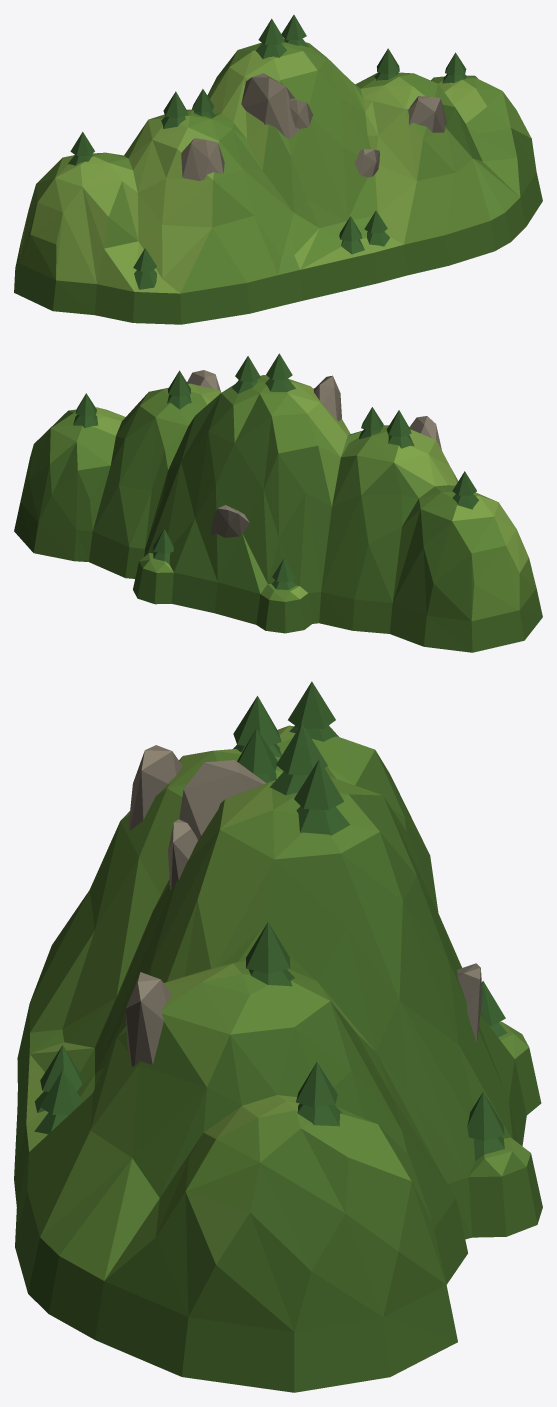
Rendered from forest_ridge.glb.
3 renders of one model, top to bottom at view 1: azimuth 30°, elevation 25°; view 2: azimuth 150°, elevation 25°; view 3: azimuth 270°, elevation 25°, orthographic. The views are drawn at different scales.
Parts seen in each view (by area): view 1: forest_ridge; view 2: forest_ridge; view 3: forest_ridge.
Boxes of the visible parts, <box> form: forest_ridge: <box>14,15,542,324</box>; forest_ridge: <box>14,353,542,652</box>; forest_ridge: <box>14,681,542,1392</box>.
Bounding box in the file's own units: 2.79 × 1.15 × 1.3.
